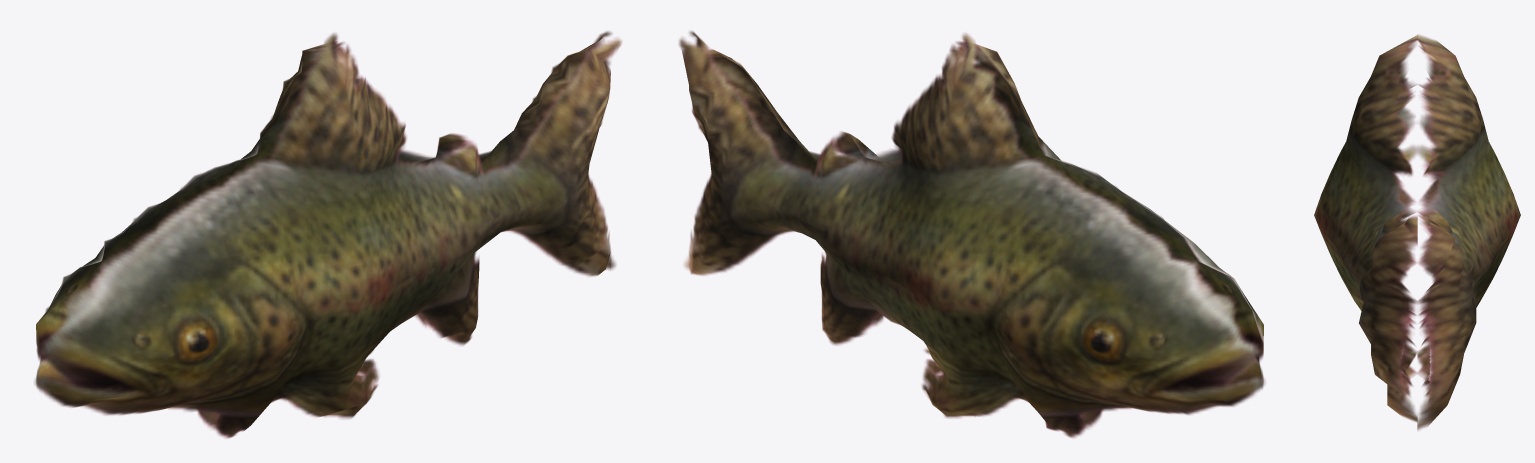
File: fish_bogtrout.glb
3 views of the same model, side by side, from view 1: azimuth 30°, elevation 25°; view 2: azimuth 150°, elevation 25°; view 3: azimuth 270°, elevation 25° (orthographic). The views are drawn at different scales.
Visible parts, largest first — view 1: fish_bogtrout; view 2: fish_bogtrout; view 3: fish_bogtrout.
Part boxes in pixels (bbox=[...]): fish_bogtrout: bbox=[35, 31, 621, 438]; fish_bogtrout: bbox=[679, 31, 1264, 438]; fish_bogtrout: bbox=[1314, 34, 1520, 430].
Bounding box in the file's own units: 0.45 × 0.2894 × 0.1428.
1 material, 1 textured.
